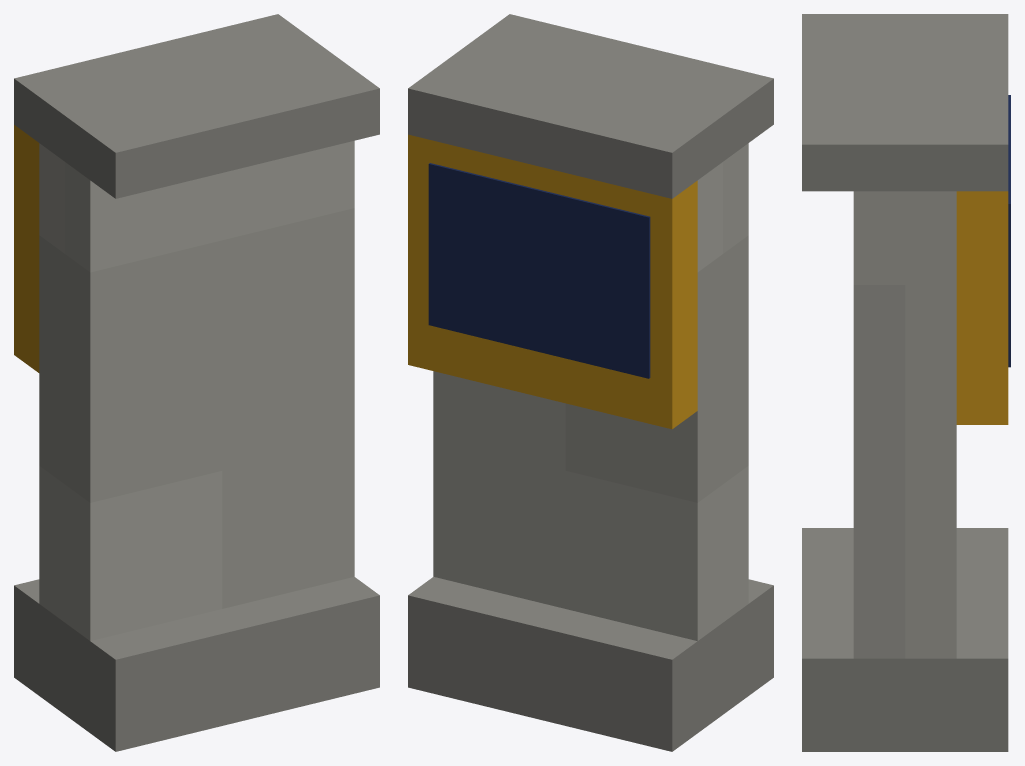
File: plaque.glb
The picture shows the model from 3 angles, left to right: view 1: azimuth 30°, elevation 25°; view 2: azimuth 150°, elevation 25°; view 3: azimuth 270°, elevation 25°; orthographic projection.
Visible parts, largest first — view 1: plinth; view 2: plinth, face; view 3: plinth, face.
Boxes of the visible parts, x1,y1,x2,y2 form: plinth: (14, 14, 379, 751); plinth: (408, 14, 773, 751); face: (428, 163, 650, 378); plinth: (802, 14, 1008, 751); face: (1008, 95, 1010, 367).
Size of the model in its own units: 0.6 by 1.3 by 0.405.
